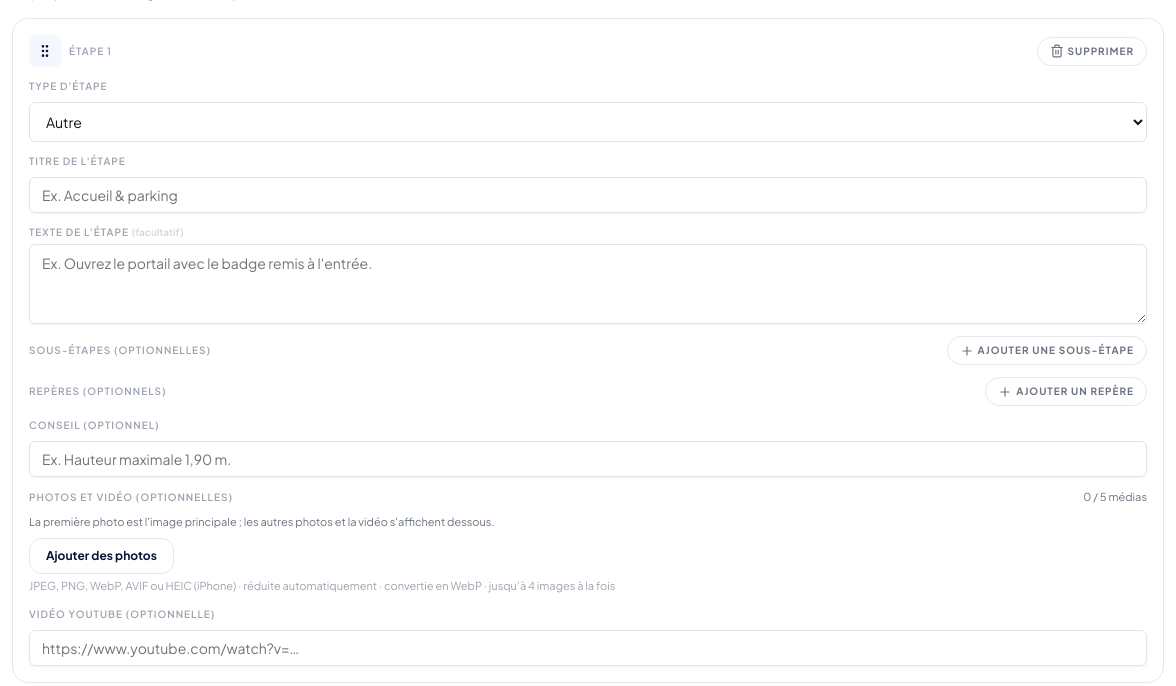
Test: ArrivalInstructionsEditor › edits the title and instruction text
In the field labelled "Titre de l'étape": (588, 195) [29,177,1147,213], type "Bienvenue à la Pieuca"
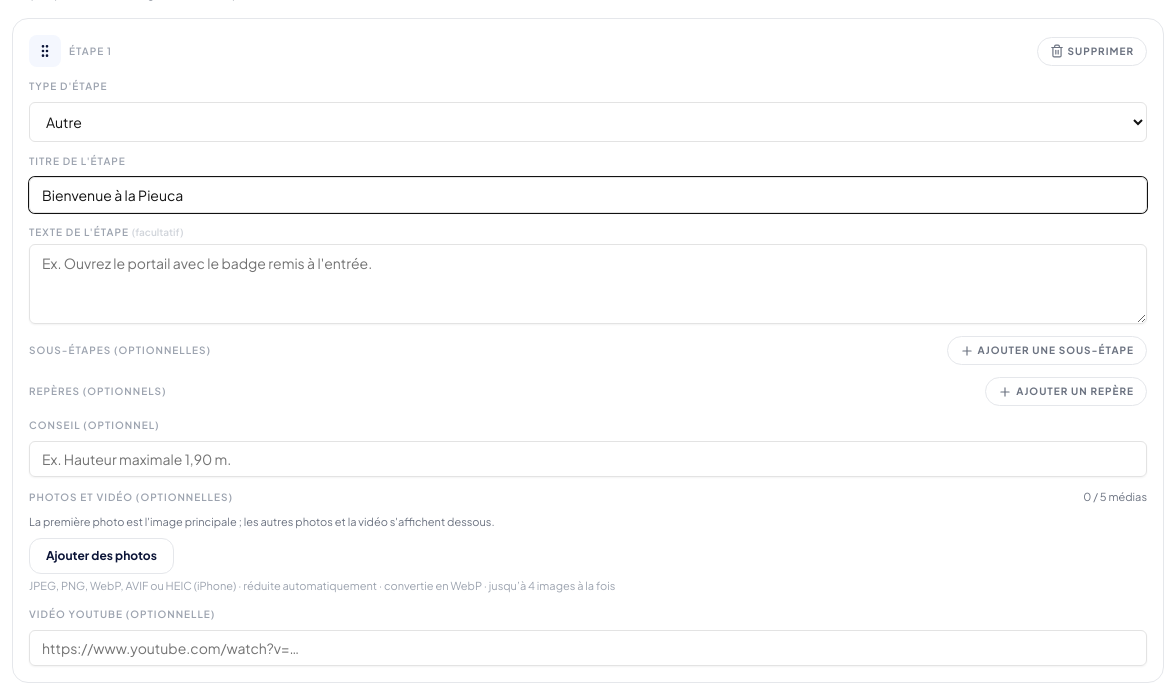
In the text box named "texte de l'instruction": (588, 284) [29,244,1147,324], type "Ouvrez le portail"
(page scrolled)
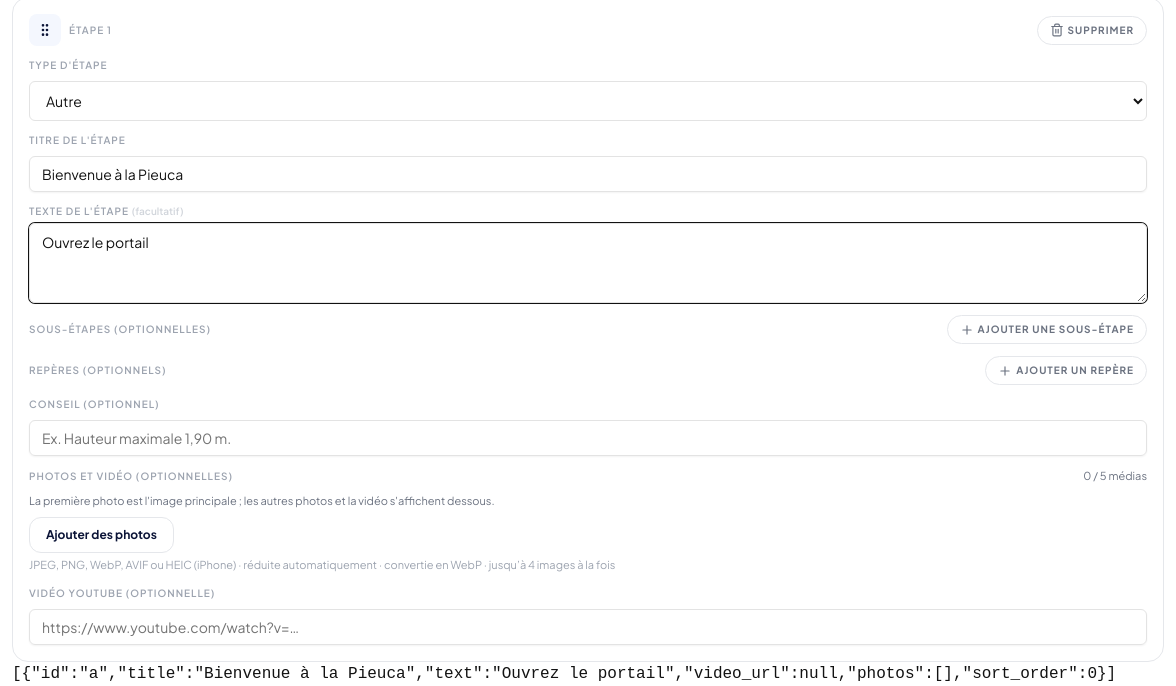
Result: the text with test id "state" shows "\"title\":\"Bienvenue à la Pieuca\"" at [12,664,1116,682]
Result: the text with test id "state" shows "\"text\":\"Ouvrez le portail\"" at [12,664,1116,682]
